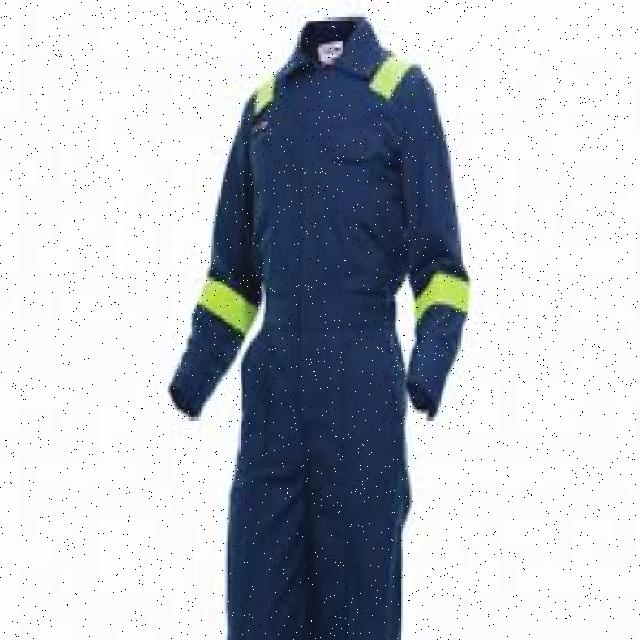Mask: (185, 34, 468, 637)
